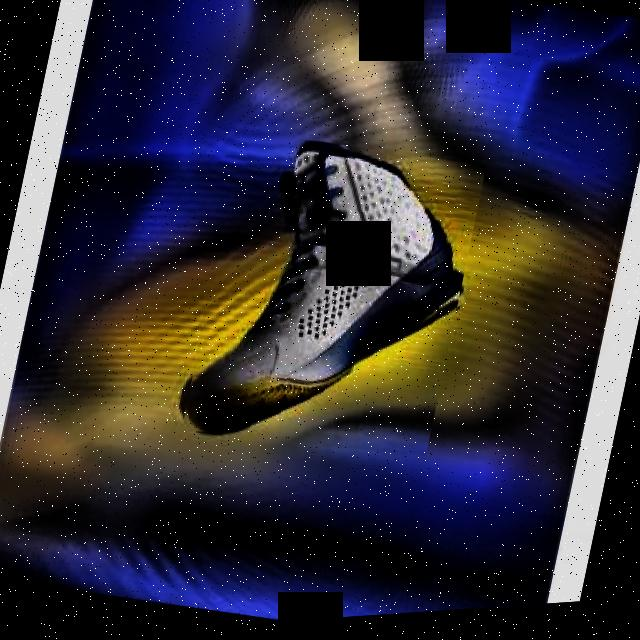shoe: (175, 120, 486, 484)
